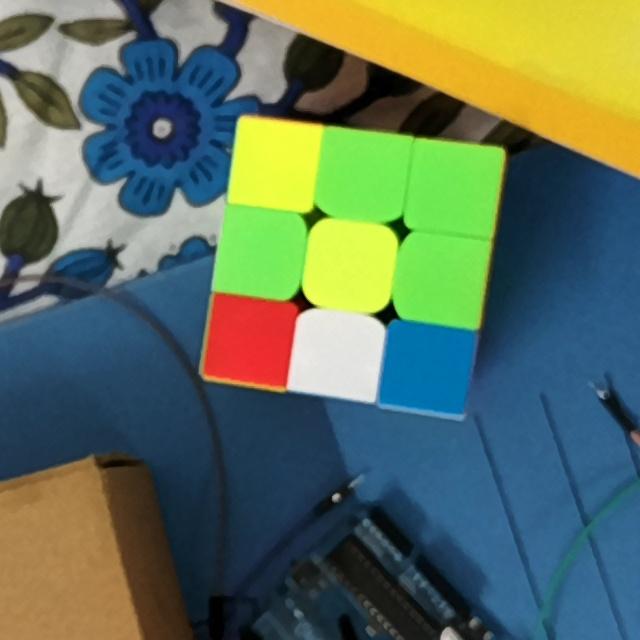tile: (417, 150, 490, 224), (215, 305, 284, 377), (302, 318, 374, 386), (406, 245, 479, 312), (313, 232, 386, 299), (325, 141, 398, 207), (241, 129, 308, 199), (392, 335, 465, 399), (229, 217, 294, 286)
